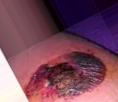Spider: (21, 43, 111, 102)
